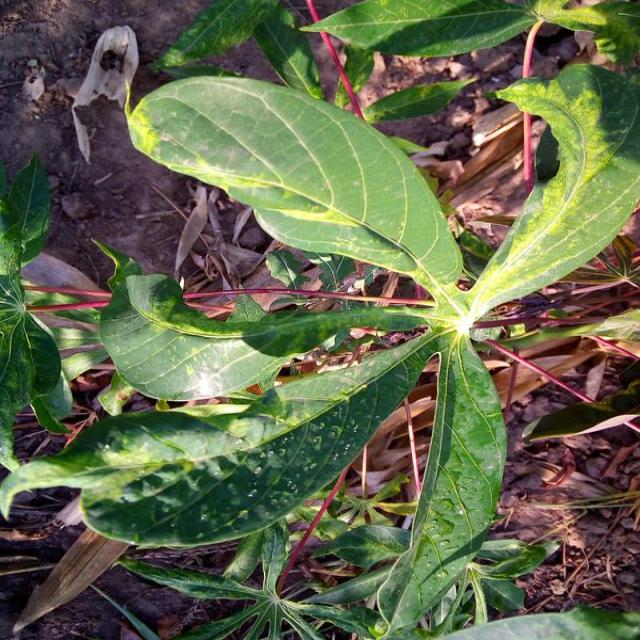cassava leaf: (1, 54, 638, 637), (1, 326, 446, 552), (123, 72, 464, 294), (468, 60, 638, 320)
